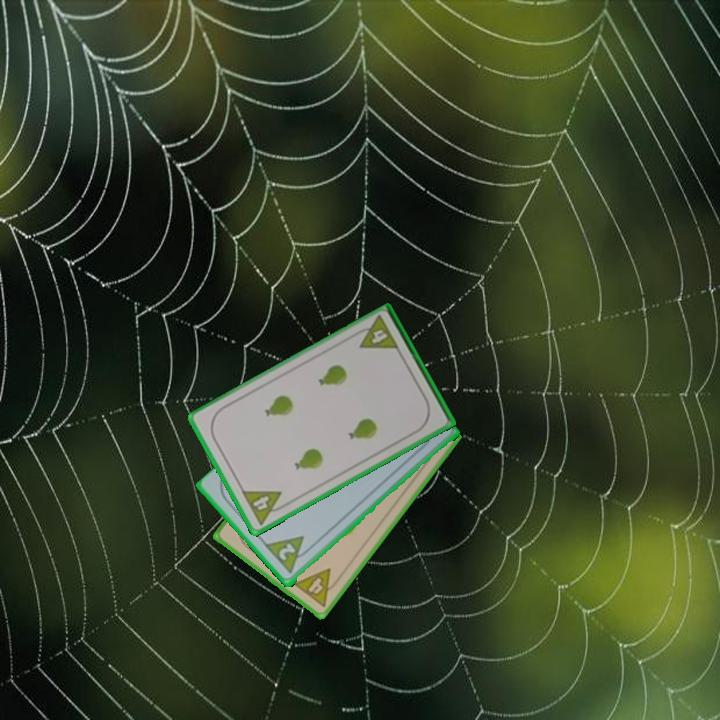2p: (275, 540, 299, 564)
4p: (290, 565, 344, 610), (238, 487, 291, 528), (350, 313, 402, 354)
